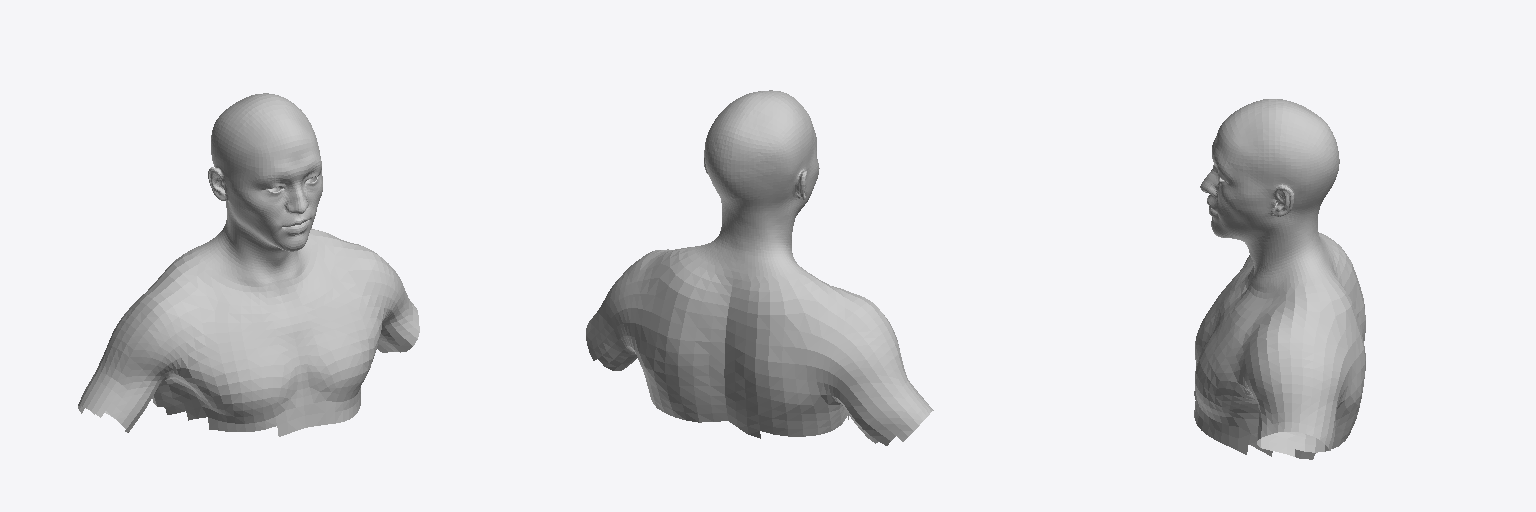
File: human-3.obj
3 renders of one model, left to right at view 1: azimuth 30°, elevation 25°; view 2: azimuth 150°, elevation 25°; view 3: azimuth 270°, elevation 25°, orthographic.
Visible parts, largest first — view 1: HG_Body.001; view 2: HG_Body.001; view 3: HG_Body.001.
Part boxes in pixels (x1,y1,x2,y2): HG_Body.001: (78,93,419,436); HG_Body.001: (586,90,933,445); HG_Body.001: (1194,99,1365,459).
Bounding box in the file's own units: 0.6005 × 0.5412 × 0.2687.